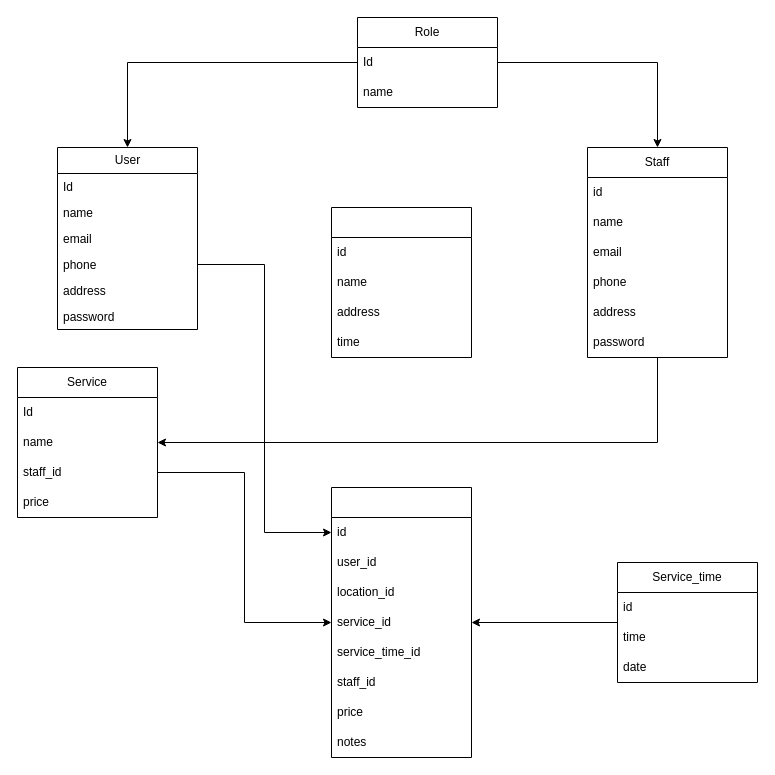
The diagram is 775 pixels wide and 775 high, and some of its shapes have lost their labels. The shapes that lost their labels are listed below. From the top down, each one's box as (x1, y1, x2, y2) in pixels, then its label:
(330, 206, 472, 358): Location
(330, 486, 472, 758): Booking
